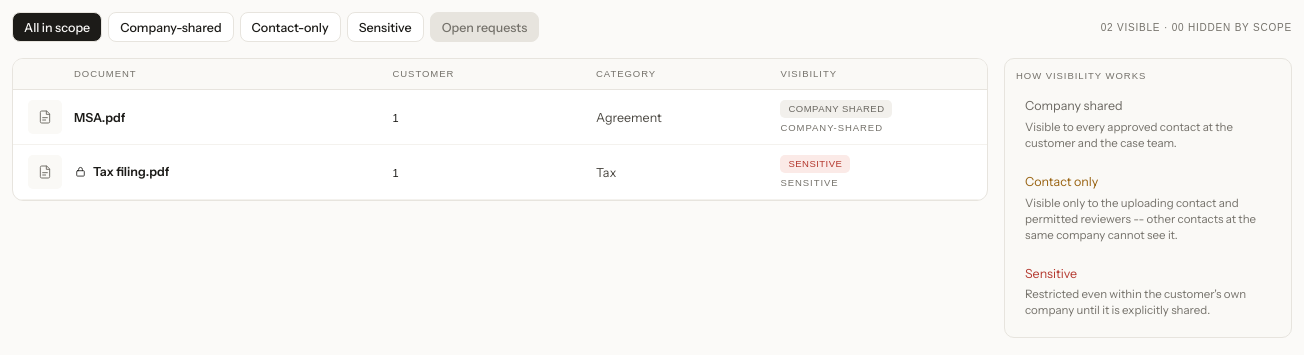
Test case: DocumentsPage › re-fetches the table and the hidden-count line for the selected tier
Expected: the table is shown, left=12, top=58, right=988, bottom=201
Click the button "Sensitive".
click(385, 27)  # box left=347, top=12, right=424, bottom=42
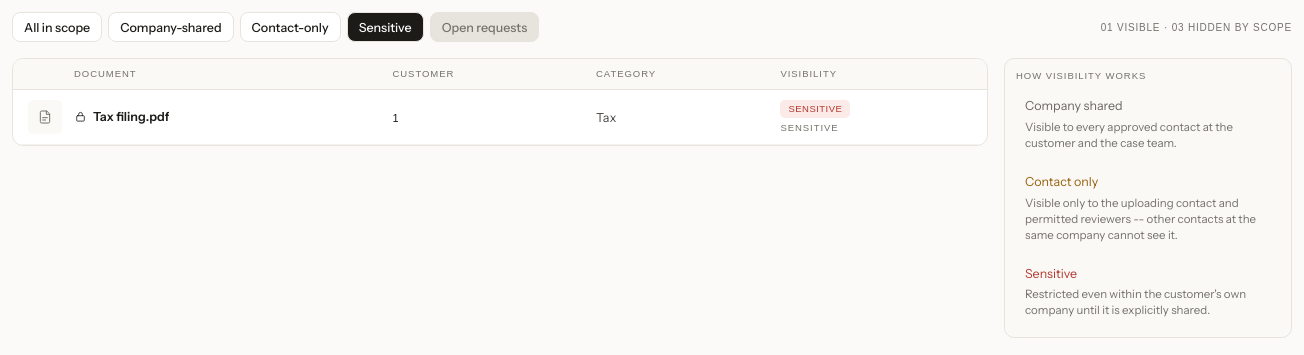
Expected: the text "Tax filing.pdf" is shown, left=93, top=108, right=169, bottom=125
Now the text "MSA.pdf" is gone
Now the text "01 VISIBLE · 03 HIDDEN BY SCOPE" is shown, box left=1101, top=20, right=1292, bottom=34
